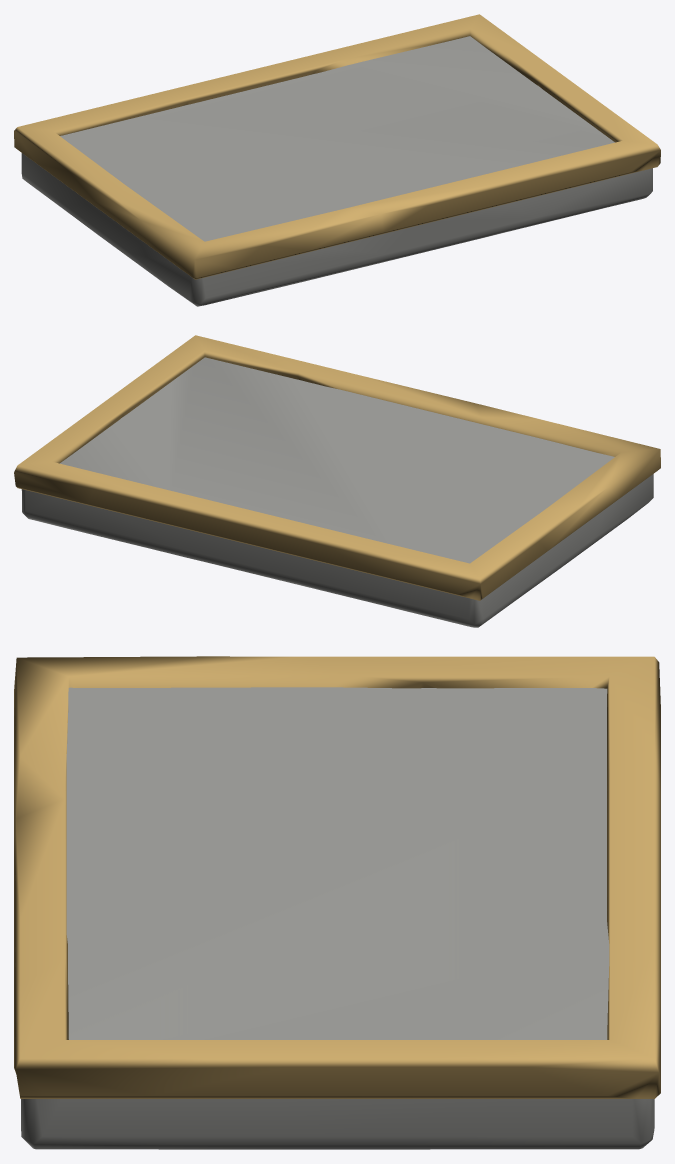
File: yardage_plate.glb
3 views of the same model, one above another, from view 1: azimuth 30°, elevation 25°; view 2: azimuth 150°, elevation 25°; view 3: azimuth 270°, elevation 25° (orthographic). The views are drawn at different scales.
Parts seen in each view (by area): view 1: yardage_plate; view 2: yardage_plate; view 3: yardage_plate.
Part boxes in pixels (x1,y1,x2,y2): yardage_plate: (14, 14, 660, 306); yardage_plate: (14, 335, 660, 627); yardage_plate: (14, 656, 660, 1149).
Size of the model in its own units: 0.304 by 0.034 by 0.204.
